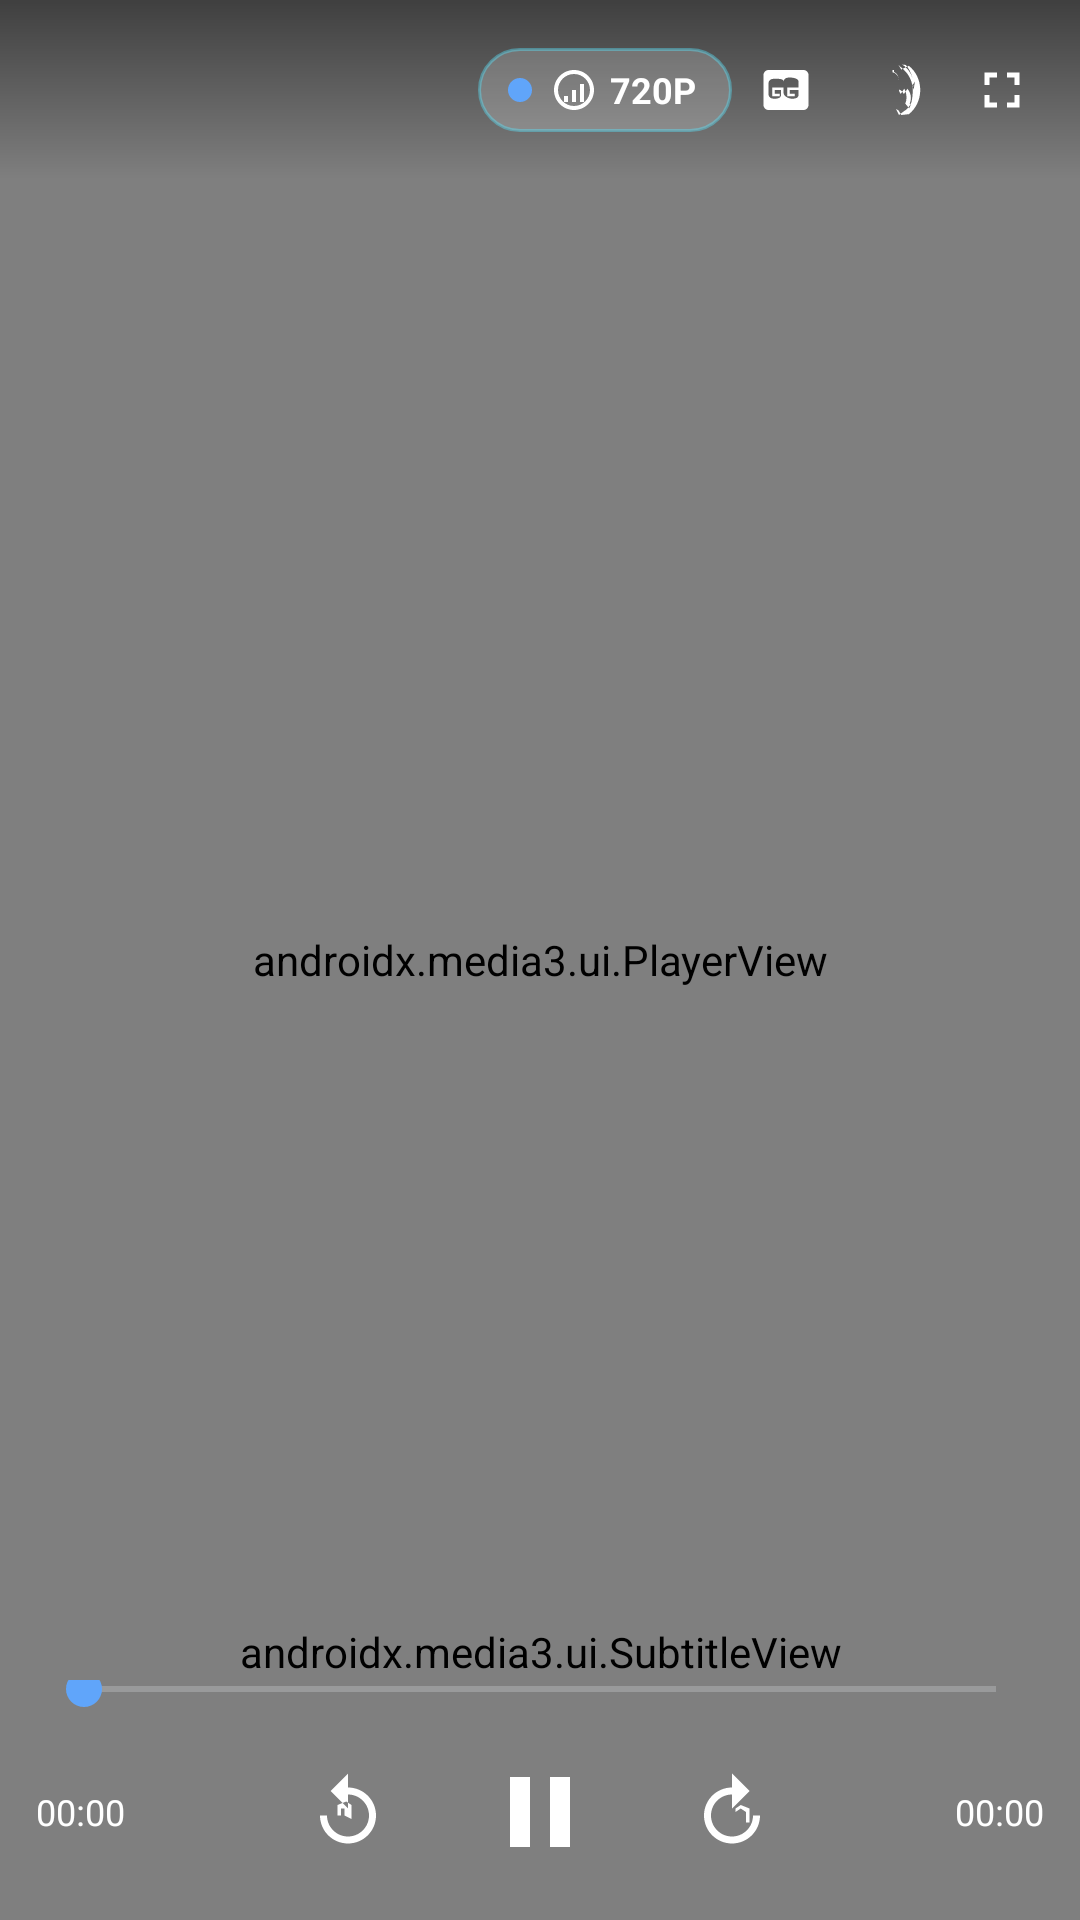

Icons on this 1080 x 1920 Android screen, each with the point to tap as point (x, y):
forward: point (732, 1809)
pause: point (540, 1812)
quality brand: point (574, 90)
replay: point (348, 1809)
